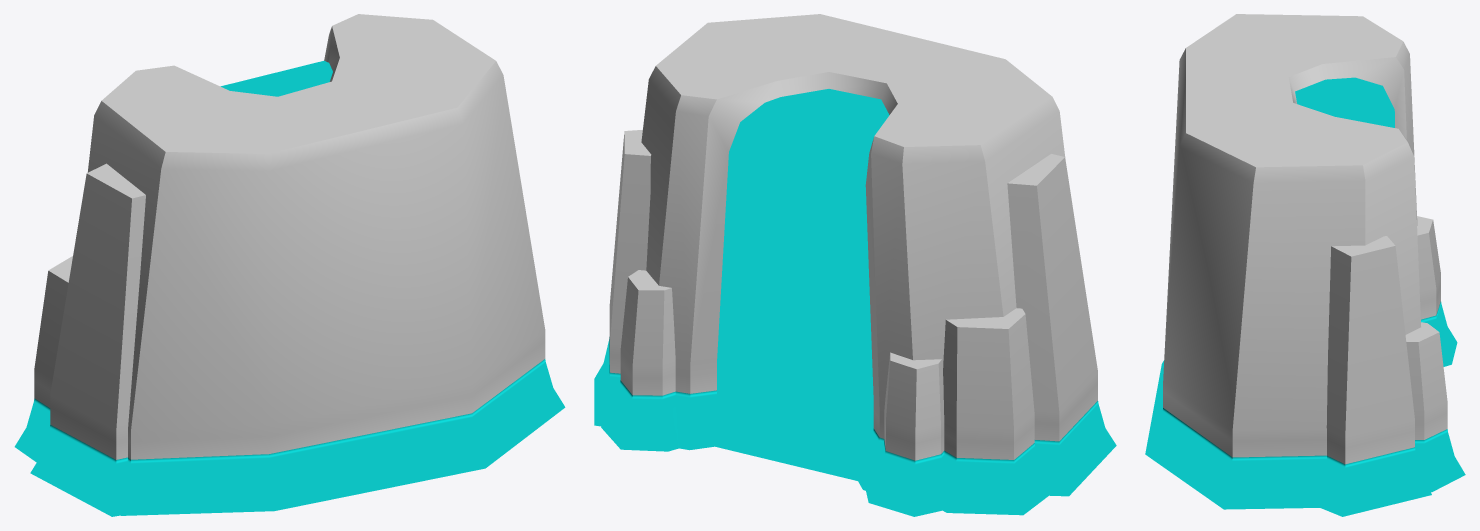
Rendered from prop-forest-cliff_waterfall_01.glb.
3 renders of one model, left to right at view 1: azimuth 30°, elevation 25°; view 2: azimuth 150°, elevation 25°; view 3: azimuth 270°, elevation 25°, orthographic. The views are drawn at different scales.
Visible parts, largest first — view 1: prop-forest-cliff_waterfall_01; view 2: prop-forest-cliff_waterfall_01; view 3: prop-forest-cliff_waterfall_01.
Part boxes in pixels (x1=…): prop-forest-cliff_waterfall_01: x1=14, y1=14, x2=565, y2=516; prop-forest-cliff_waterfall_01: x1=594, y1=14, x2=1116, y2=516; prop-forest-cliff_waterfall_01: x1=1145, y1=14, x2=1465, y2=516.
Bounding box in the file's own units: 25.47 × 17.34 × 15.79.
